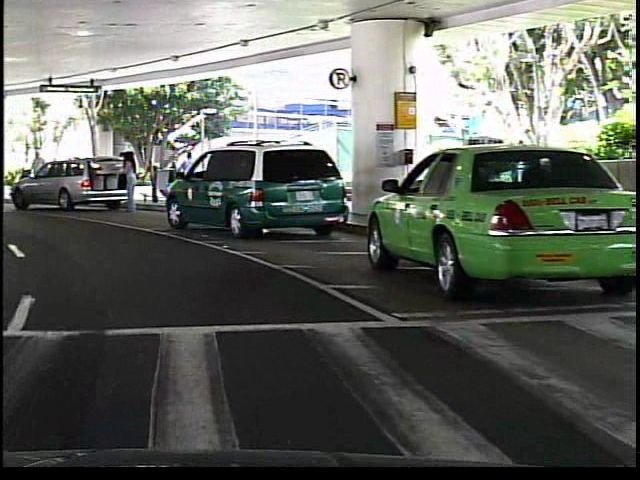person: (117, 147, 136, 216), (23, 147, 48, 199)
